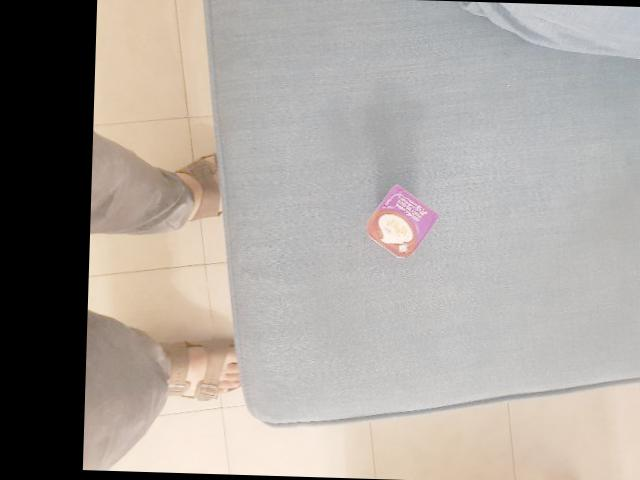milky: (464, 101, 548, 192)
